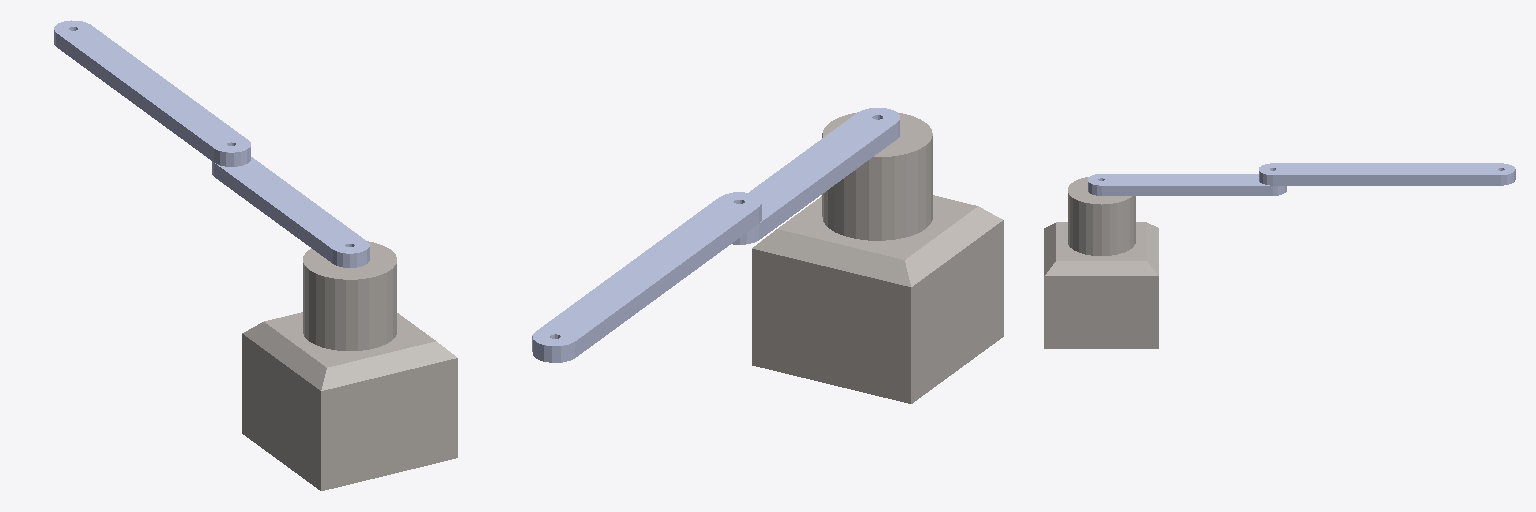
robot.urdf — scrap_arm:
<robot name="scrap_arm">
    <link name="base_link">
        <visual>
            <origin xyz="0 0 0" rpy="-1.570796 0 0" />
            <geometry>
                <mesh filename="package://scrap_arm/meshes/base_link.STL" />
            </geometry>
            <material name="">
                <color rgba="0.77647 0.75686 0.73725 1" />
            </material>
        </visual>
        <collision>
            <origin xyz="0 0 0" rpy="-1.570796 0 0" />
            <geometry>
                <mesh filename="package://scrap_arm/meshes/base_link.STL" />
            </geometry>
        </collision>
    </link>

    <link name="Link00">
        <visual>
            <origin xyz="0 0 0" rpy="0 0 0" />
            <geometry>
                <mesh filename="package://scrap_arm/meshes/Link00.STL" />
            </geometry>
            <material name="">
                <color rgba="0.79216 0.81961 0.93333 1" />
            </material>
        </visual>
        <collision>
            <origin xyz="0 0 0" rpy="0 0 0" />
            <geometry>
                <mesh filename="package://scrap_arm/meshes/Link00.STL" />
            </geometry>
        </collision>
    </link>
    <joint name="Joint00" type="continuous">
        <origin xyz="0 0 0.13" rpy="0 3.14159625 0" />
        <parent link="base_link" />
        <child link="Link00" />
        <axis xyz="0 0 -1" />
        <limit effort="0" velocity="0" />
    </joint>

    <link name="Link01">
        <visual>
            <origin xyz="0 0 0" rpy="0 0 0" />
            <geometry>
                <mesh filename="package://scrap_arm/meshes/Link01.STL" />
            </geometry>
            <material name="">
                <color rgba="0.79216 0.81961 0.93333 1" />
            </material>
        </visual>
        <collision>
            <origin xyz="0 0 0" rpy="0 0 0" />
            <geometry>
                <mesh filename="package://scrap_arm/meshes/Link01.STL" />
            </geometry>
        </collision>
    </link>
    <joint name="Joint01" type="continuous">
        <origin xyz="0 0.15 -0.01" rpy="0 0 0" />
        <parent link="Link00" />
        <child link="Link01" />
        <axis xyz="0 0 -1" />
        <limit effort="0" velocity="0" />
    </joint>
</robot>

--- Render facts (derived) ---
Views: 3 orthographic renders of the robot side by side, from view 1: azimuth 30°, elevation 25°; view 2: azimuth 150°, elevation 25°; view 3: azimuth 270°, elevation 25°.
Robot: scrap_arm — 3 links, 2 joints (2 continuous); root link base_link; default pose: all joints at 0.
Links seen in each view (by area): view 1: base_link, Link01, Link00; view 2: base_link, Link01, Link00; view 3: base_link, Link01, Link00.
Link boxes in pixels (x1,y1,x2,y2): base_link: [242, 241, 457, 490]; Link01: [54, 20, 250, 166]; Link00: [212, 157, 369, 267]; base_link: [752, 112, 1003, 403]; Link01: [532, 192, 761, 362]; Link00: [732, 108, 899, 244]; base_link: [1044, 177, 1158, 348]; Link01: [1259, 163, 1515, 185]; Link00: [1088, 174, 1286, 195].
Bounding box of the posed robot: 0.1 × 0.4125 × 0.15 m (x, y, z).
Meshes: 3 distinct files referenced, 3 mesh visuals loaded (3 binary STL).